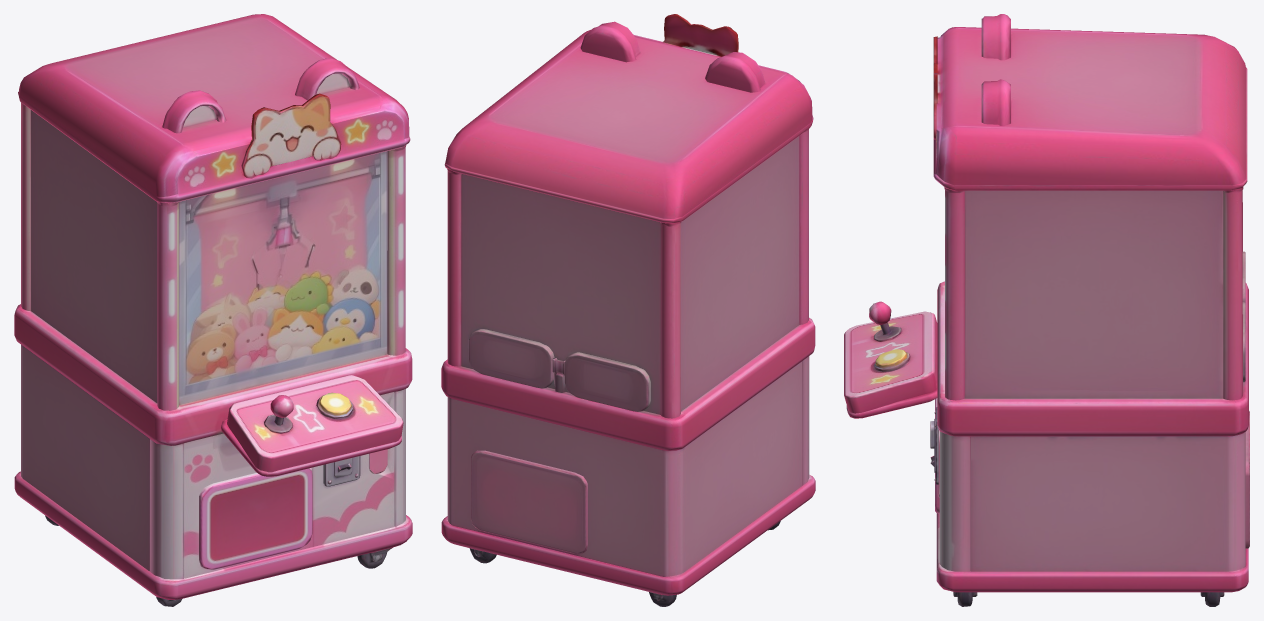
Rendered from claw-lite.glb.
The picture shows the model from 3 angles, left to right: view 1: azimuth 30°, elevation 25°; view 2: azimuth 150°, elevation 25°; view 3: azimuth 270°, elevation 25°; orthographic projection. The views are drawn at different scales.
Size of the model in its own units: 0.5357 by 0.9995 by 0.7222.
1 material, 1 textured.
